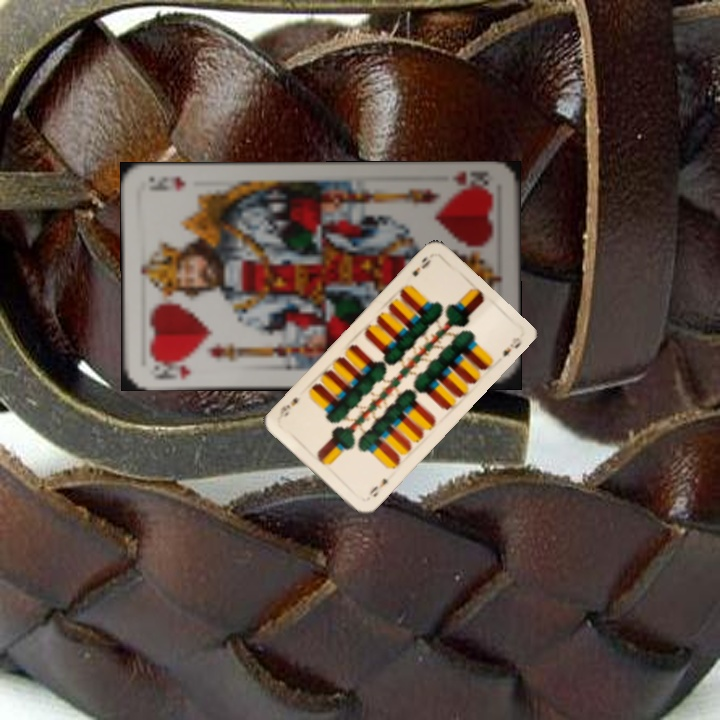E9: (408, 253, 434, 279), (365, 474, 390, 500)
HK: (447, 168, 494, 195), (150, 355, 194, 382)
